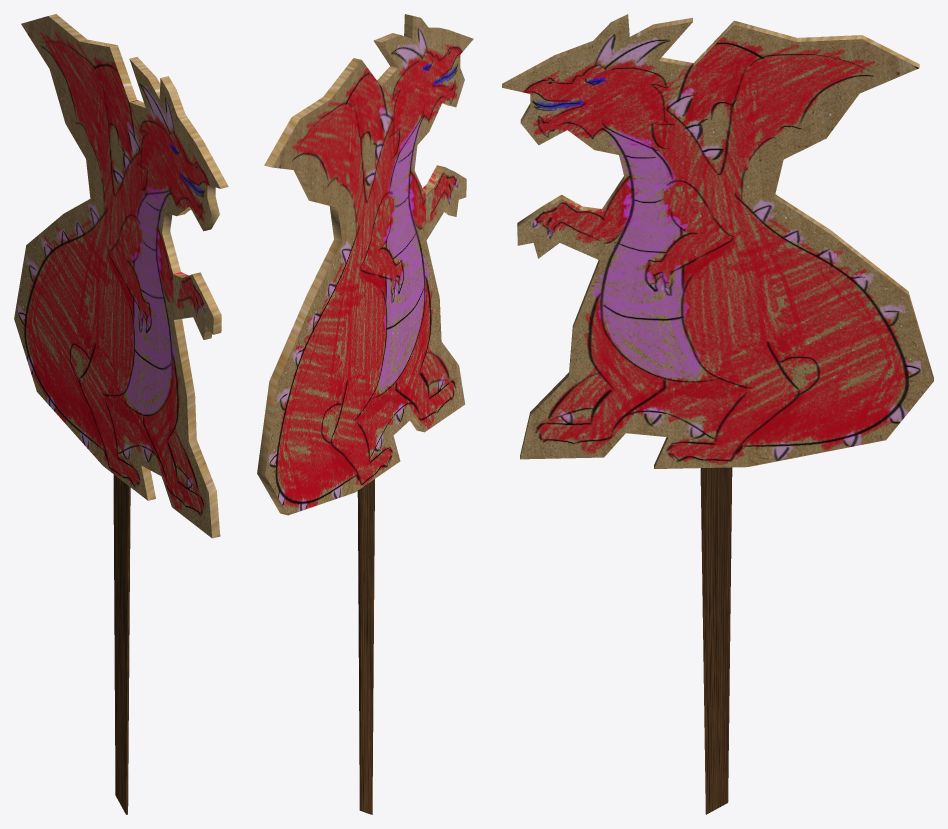
File: Red dragon.fbx
The picture shows the model from 3 angles, left to right: view 1: azimuth 30°, elevation 25°; view 2: azimuth 150°, elevation 25°; view 3: azimuth 270°, elevation 25°; orthographic projection. The views are drawn at different scales.
Visible parts, largest first — view 1: dragonding, stokje; view 2: dragonding, stokje; view 3: dragonding, stokje.
Part boxes in pixels (box(x1,y1,x2,y2)): dragonding: box(14, 14, 228, 538); stokje: box(113, 474, 130, 814); dragonding: box(257, 14, 473, 515); stokje: box(357, 479, 374, 814); dragonding: box(502, 14, 933, 468); stokje: box(700, 467, 732, 814).
Size of the model in its own units: 22.18 by 1717 by 841.
Materials: 2 (2 with a texture image).
